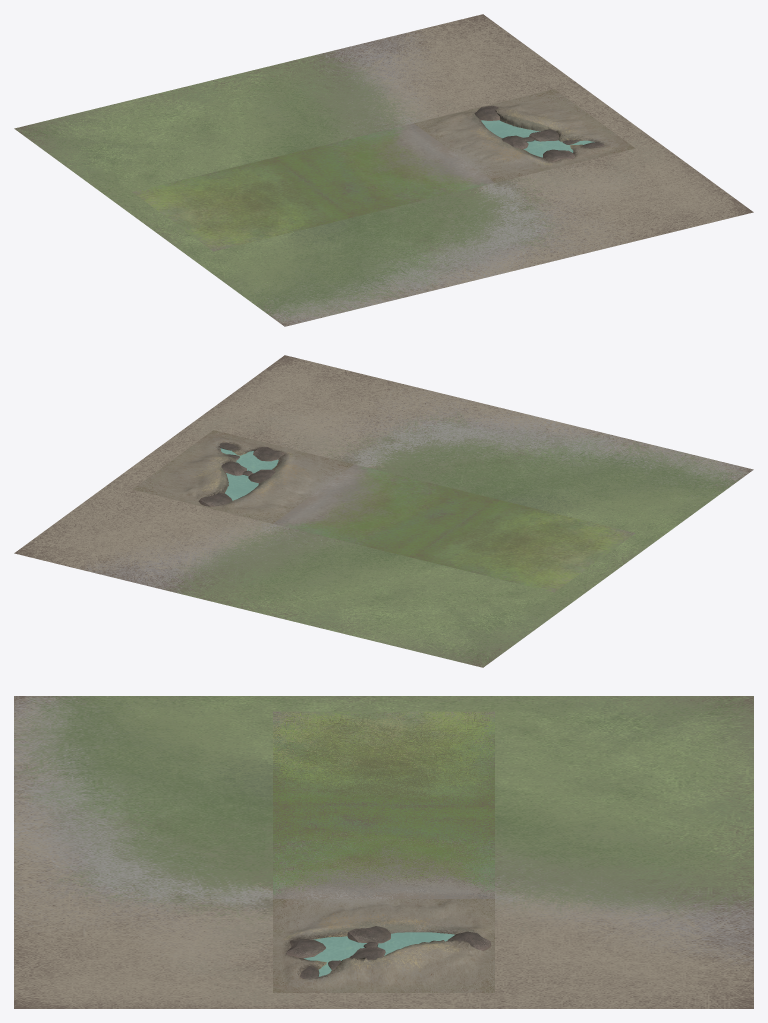
File: Terrain_River2.glb
The picture shows the model from 3 angles, top to bottom: view 1: azimuth 30°, elevation 25°; view 2: azimuth 150°, elevation 25°; view 3: azimuth 270°, elevation 25°; orthographic projection. The views are drawn at different scales.
Parts seen in each view (by area): view 1: ground_plane, ground_2, ground_1, creek', water; view 2: ground_plane, ground_2, ground_1, creek', water; view 3: ground_plane, ground_2, ground_1, creek', water, rock.002, rock.003.
Boxes of the visible parts, left/top/right/bottom form: ground_plane: left=14, top=14, right=753, bottom=326; ground_2: left=132, top=158, right=353, bottom=251; ground_1: left=273, top=123, right=494, bottom=216; creek': left=414, top=89, right=635, bottom=182; water: left=481, top=120, right=594, bottom=157; ground_plane: left=14, top=355, right=753, bottom=667; ground_2: left=414, top=499, right=635, bottom=592; ground_1: left=273, top=464, right=494, bottom=557; creek': left=132, top=430, right=353, bottom=523; water: left=220, top=448, right=278, bottom=500; ground_plane: left=14, top=696, right=753, bottom=1008; ground_2: left=273, top=711, right=494, bottom=805; ground_1: left=273, top=805, right=494, bottom=898; creek': left=273, top=899, right=494, bottom=992; water: left=304, top=932, right=454, bottom=976; rock.002: left=347, top=926, right=390, bottom=943; rock.003: left=286, top=938, right=325, bottom=958.
Bounding box in the file's own units: 20 × 0.3901 × 20.
6 materials, 5 textured.
